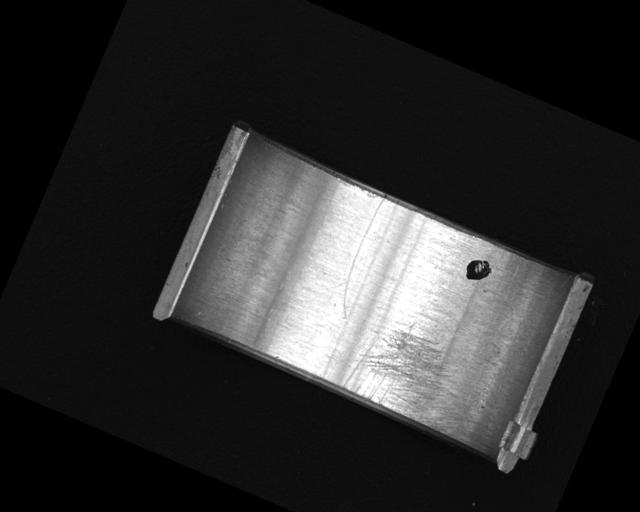blot: (460, 253, 496, 288)
nick: (329, 192, 397, 321)
scratch: (339, 304, 487, 437)
